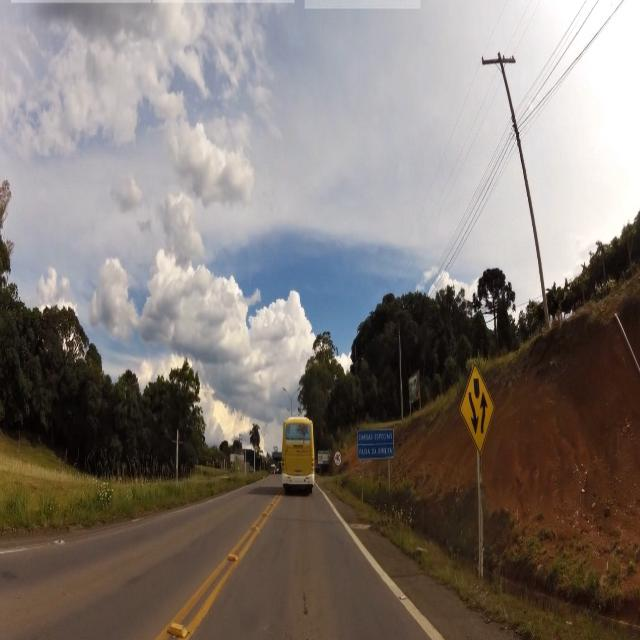A-42a: (457, 362, 499, 455)
